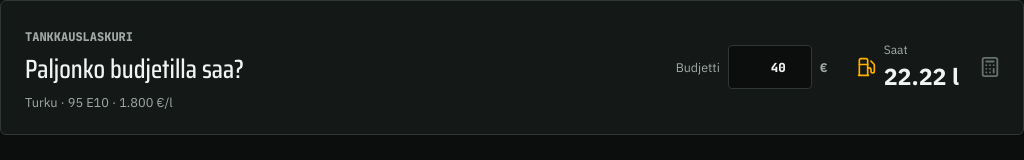
Scenario: renders and updates the compact city calculator
Check: the text with test id "fuel-pump-liters" shows "22.22", box [884, 61, 959, 91]
Replace the text in the number field with test id "fuel-pump-amount-input" with "50" at (770, 67), box [728, 45, 812, 89]
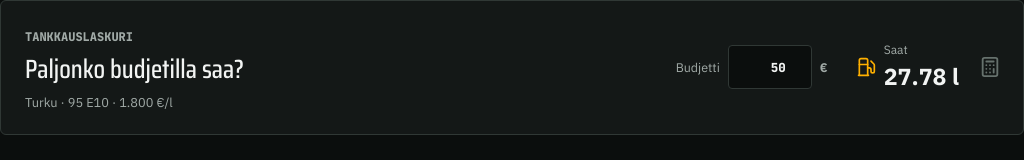
Check: the text with test id "fuel-pump-liters" shows "27.78", box [884, 61, 959, 91]
